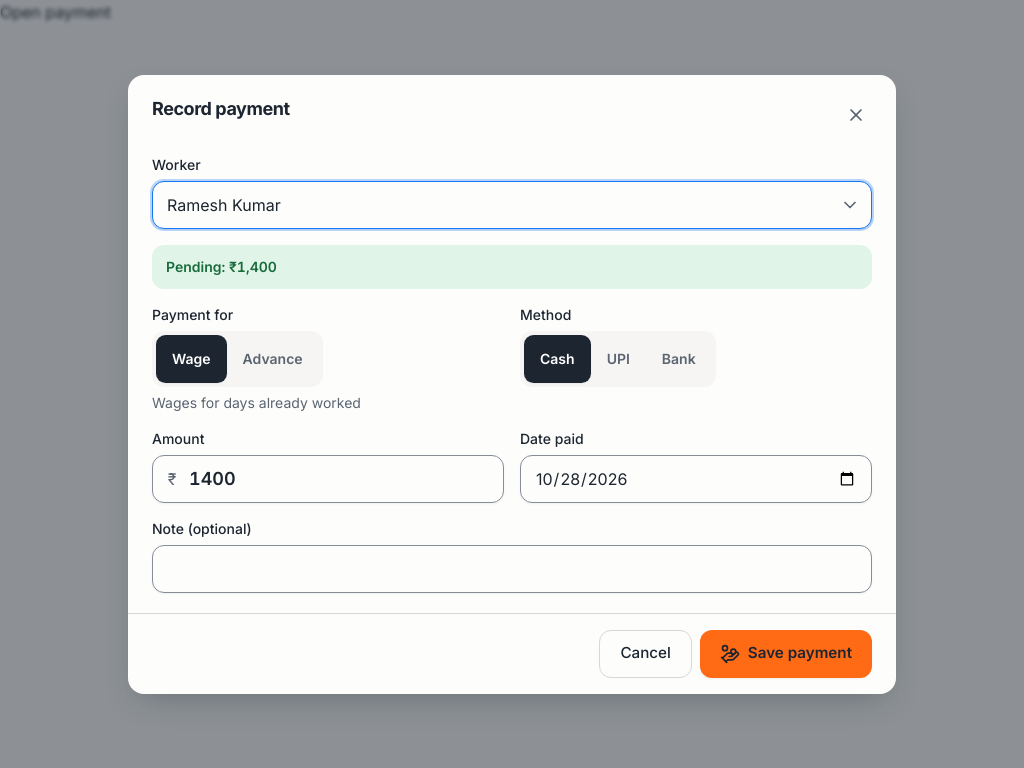
RecordPaymentModal › shows one message for the amount ""
Step 1. Clear the field labelled "Amount" → (328, 478), box x1=152 y1=454 x2=504 y2=502
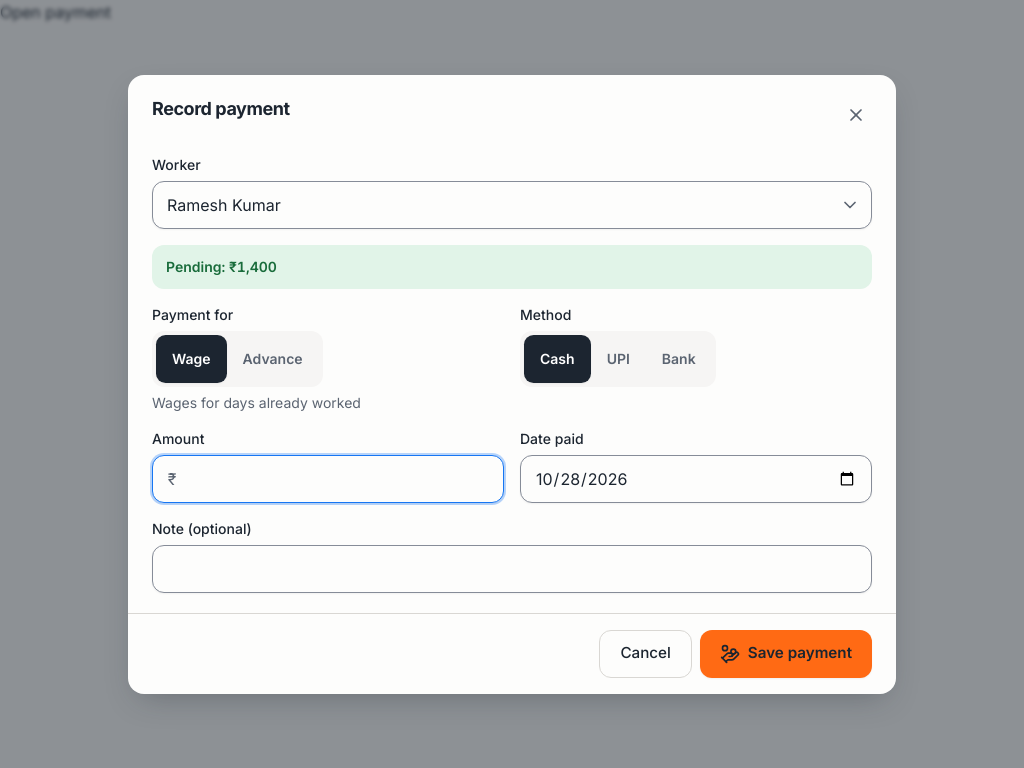
Step 2. Click the button "Save payment" → (786, 654), box x1=700 y1=630 x2=872 y2=678
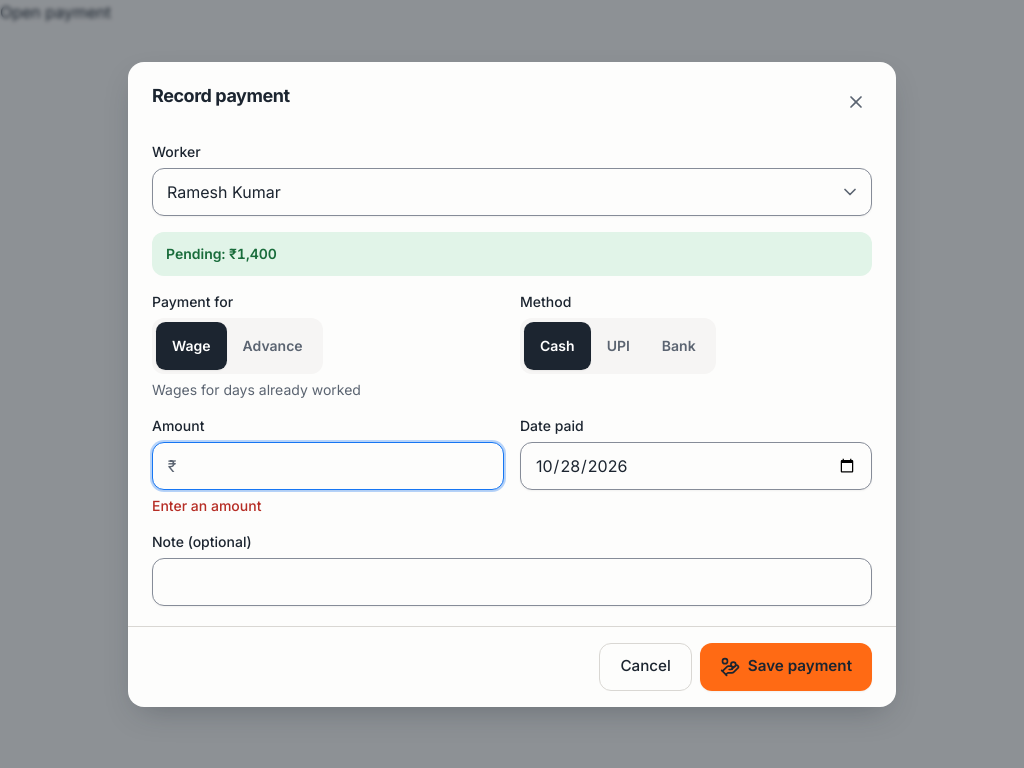
Result: the text "Enter an amount" is shown at x1=152 y1=496 x2=261 y2=514
